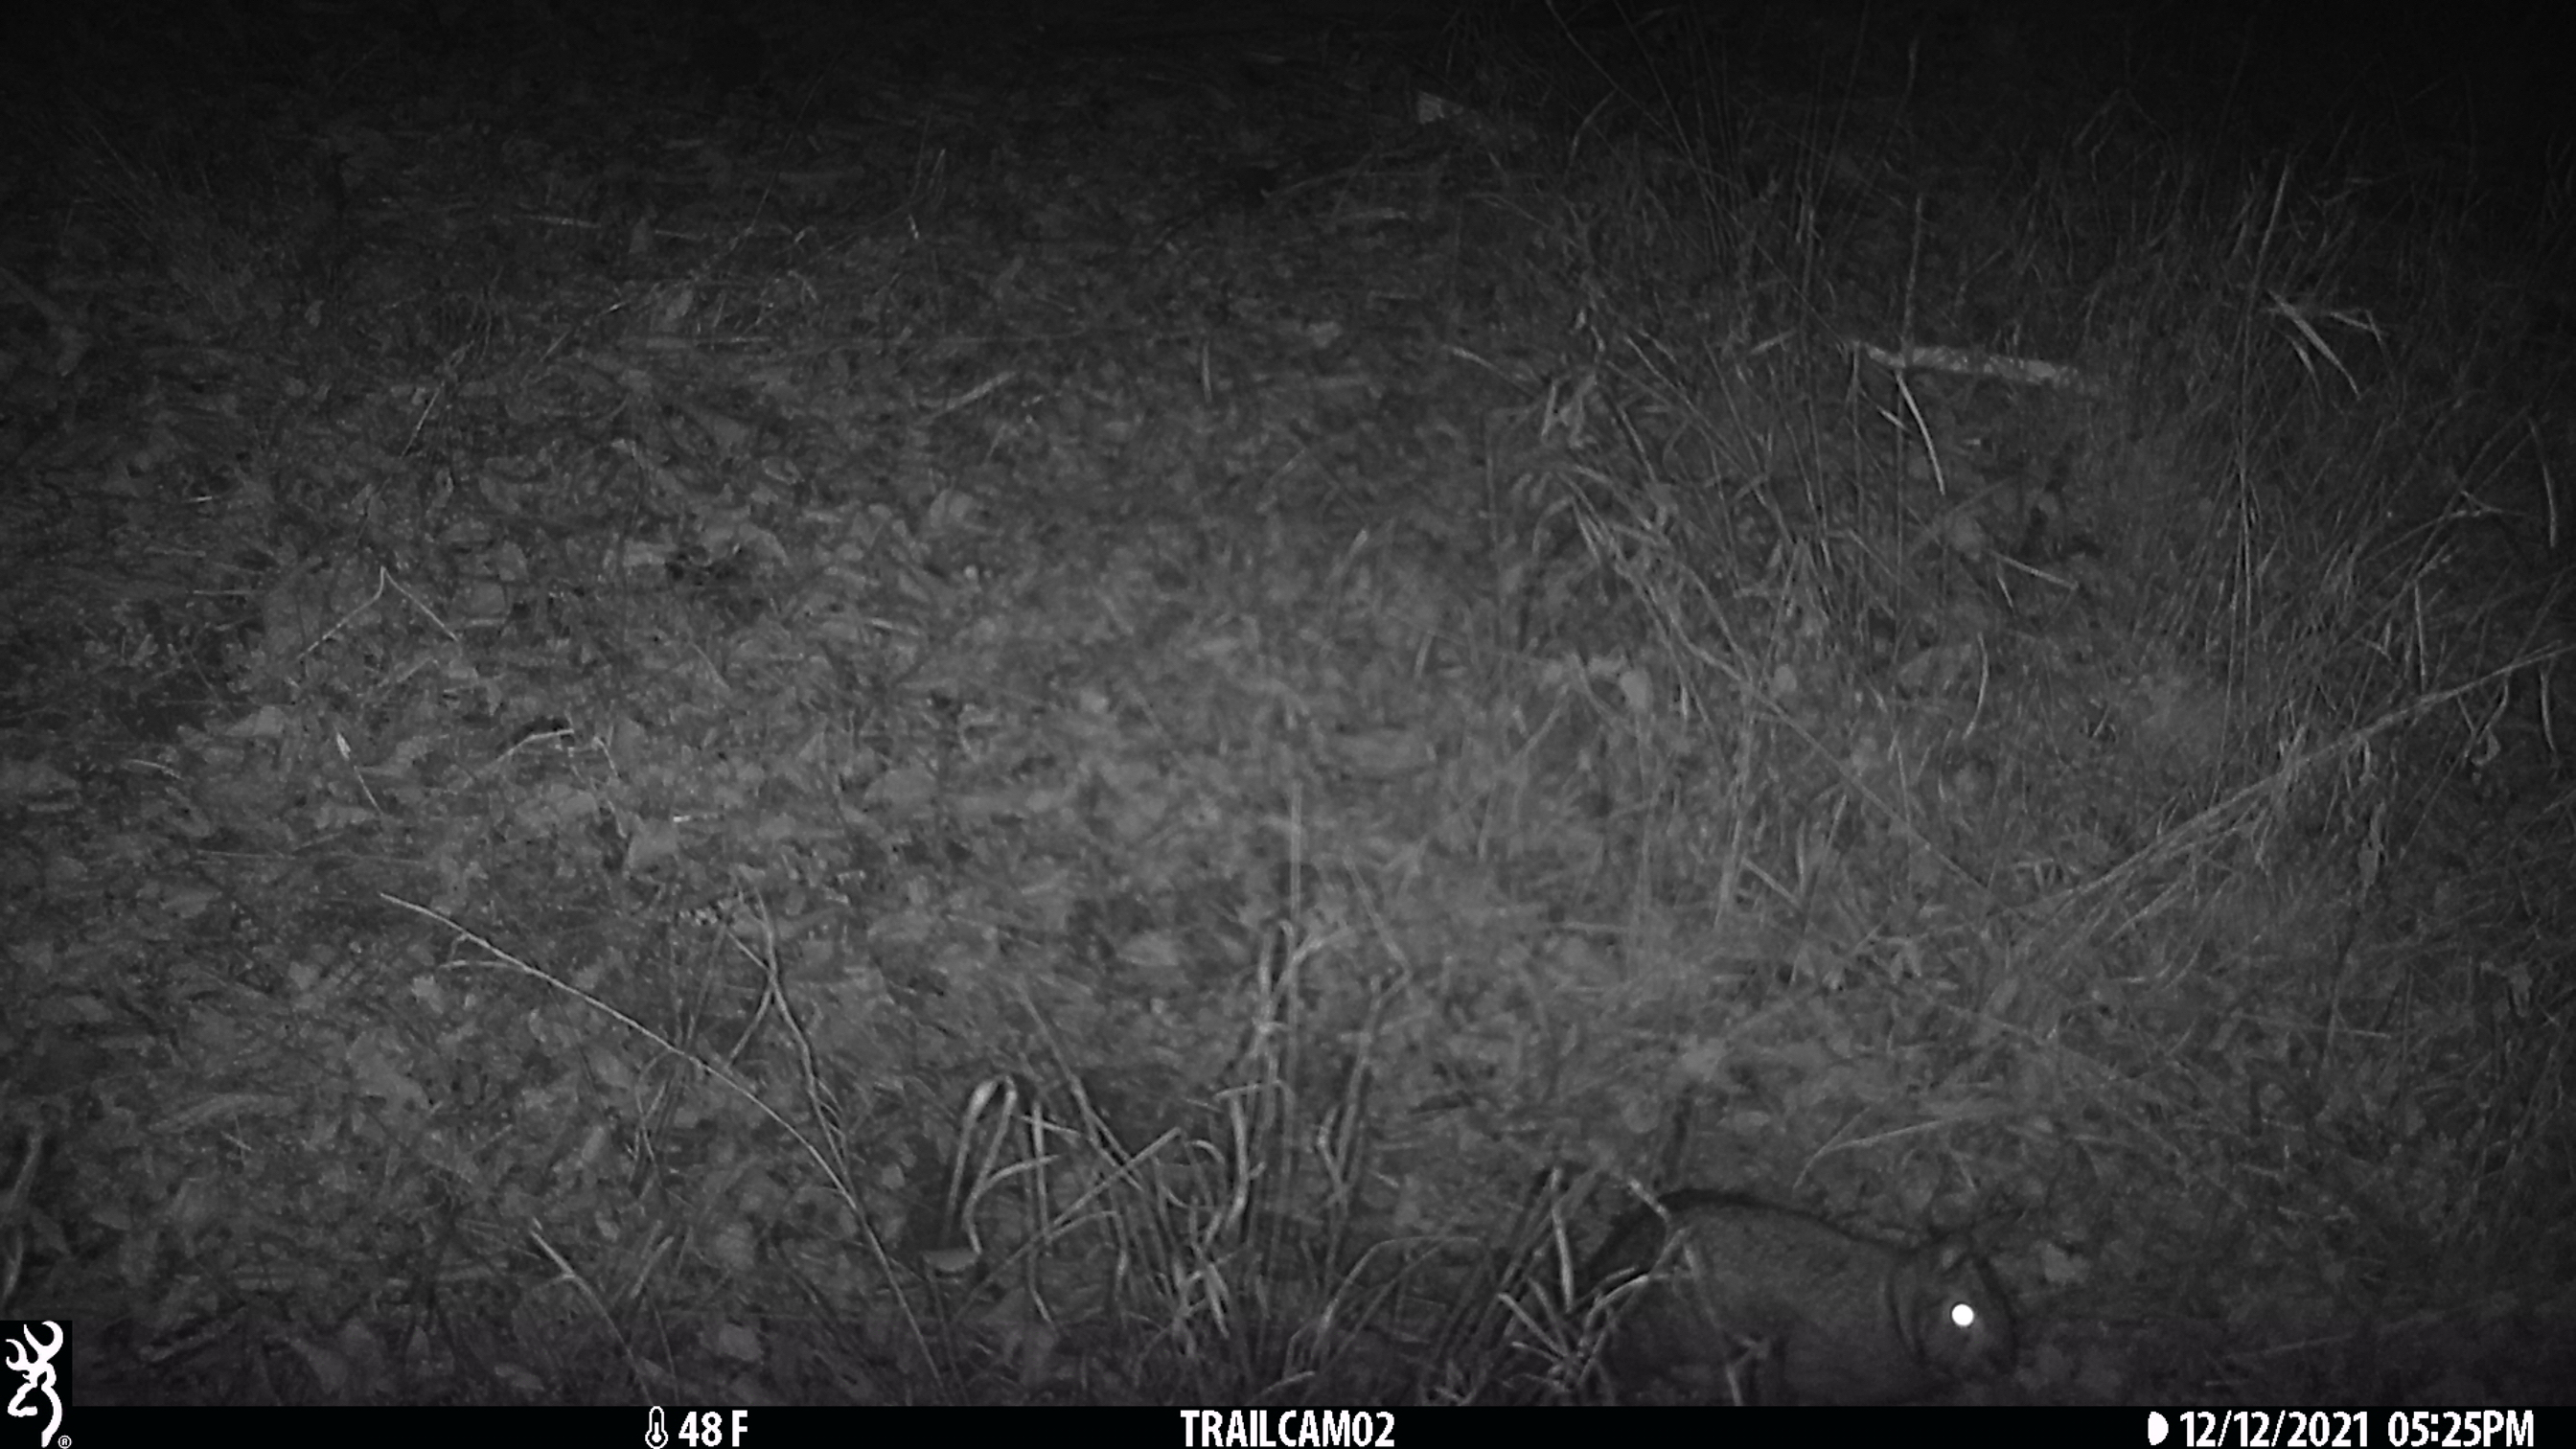Rabbit: (1575, 1185, 2015, 1408)
